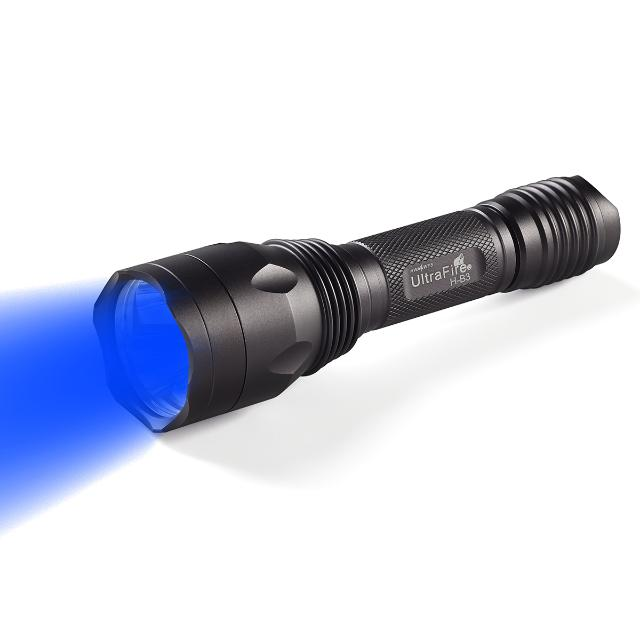Flashlight: (82, 164, 626, 444)
